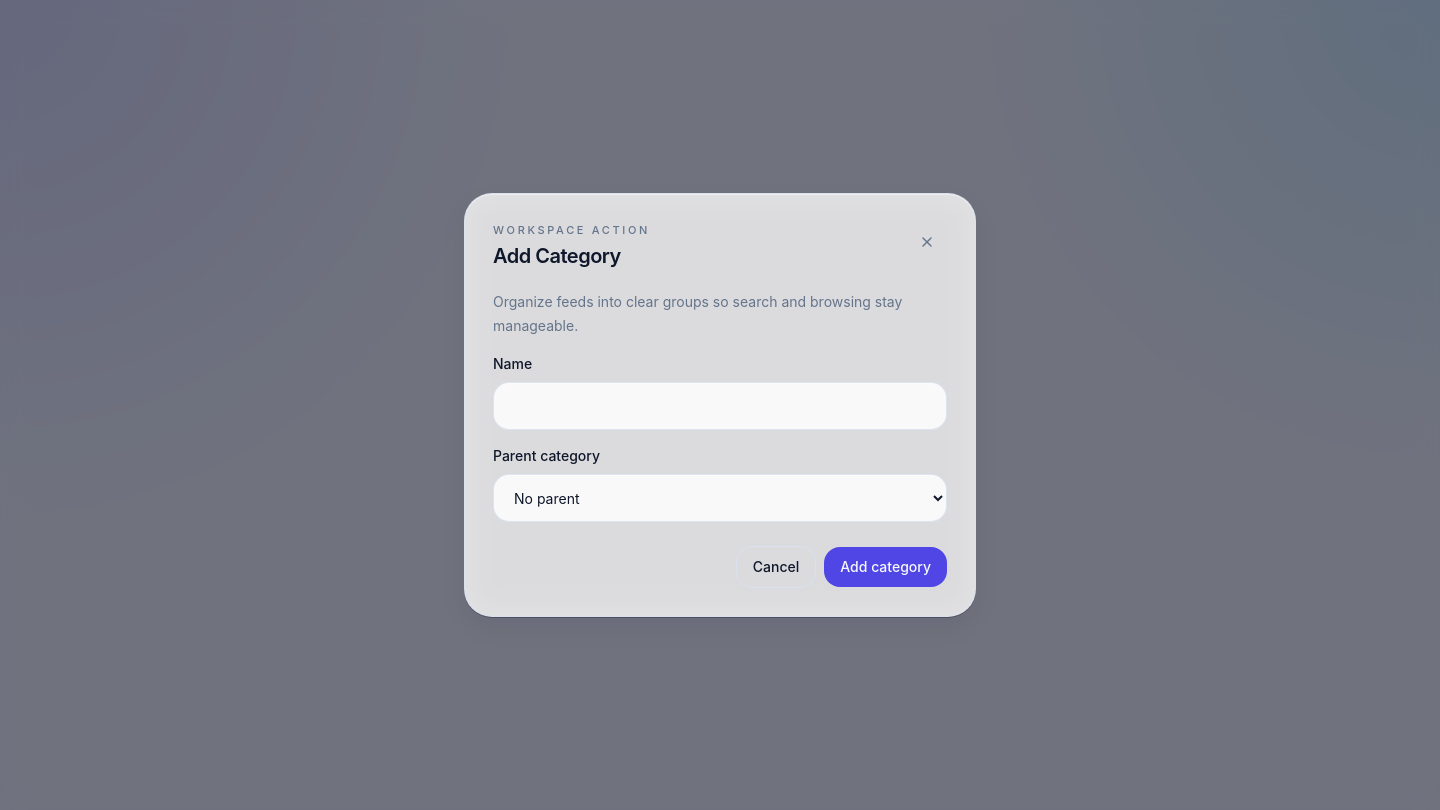
CategoryDialog - create mode › surfaces the server error message on failure
Type "Tech" into the field labelled "Name" at (720, 406), box x1=493 y1=382 x2=947 y2=430
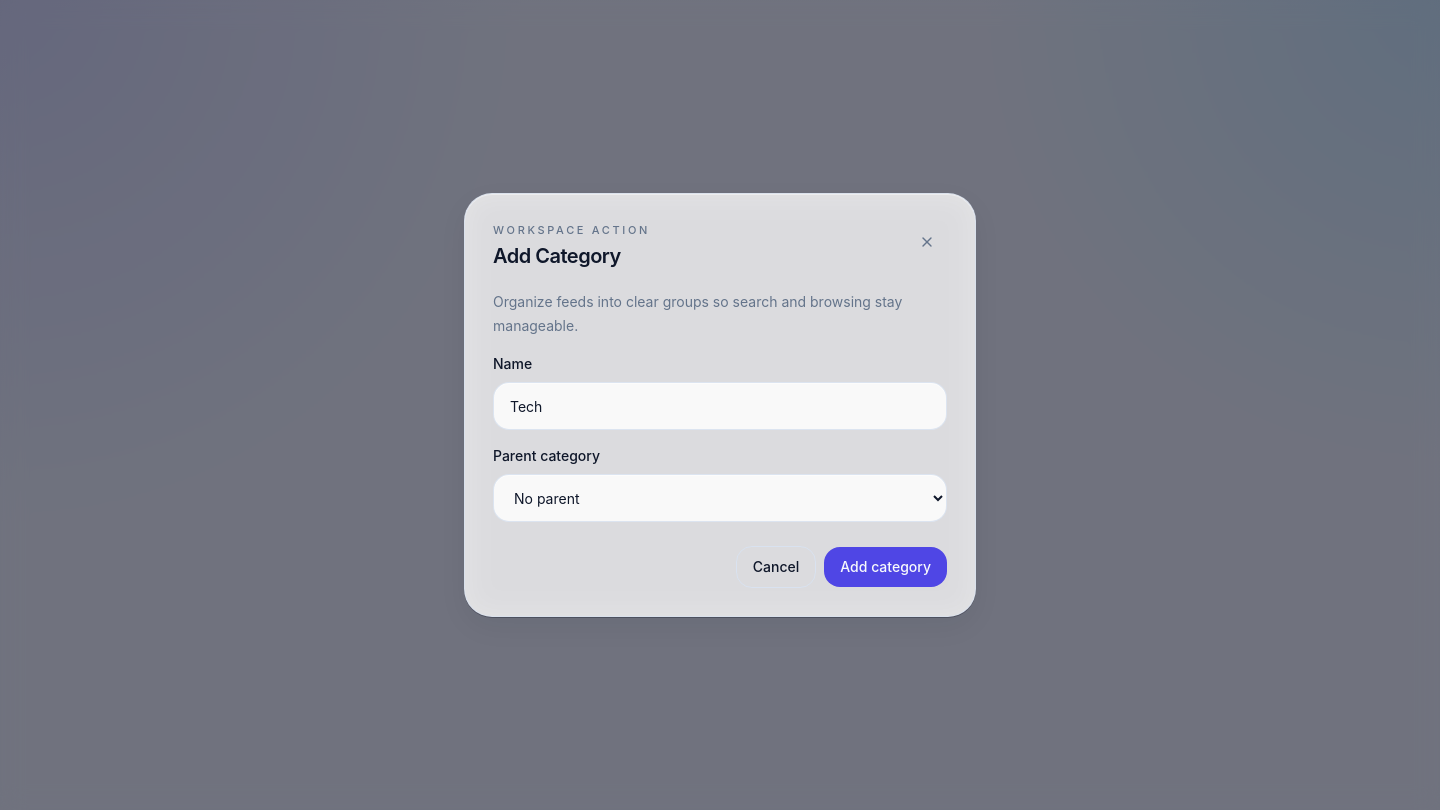
Click the button "Add category" at (886, 567), box x1=824 y1=547 x2=947 y2=587
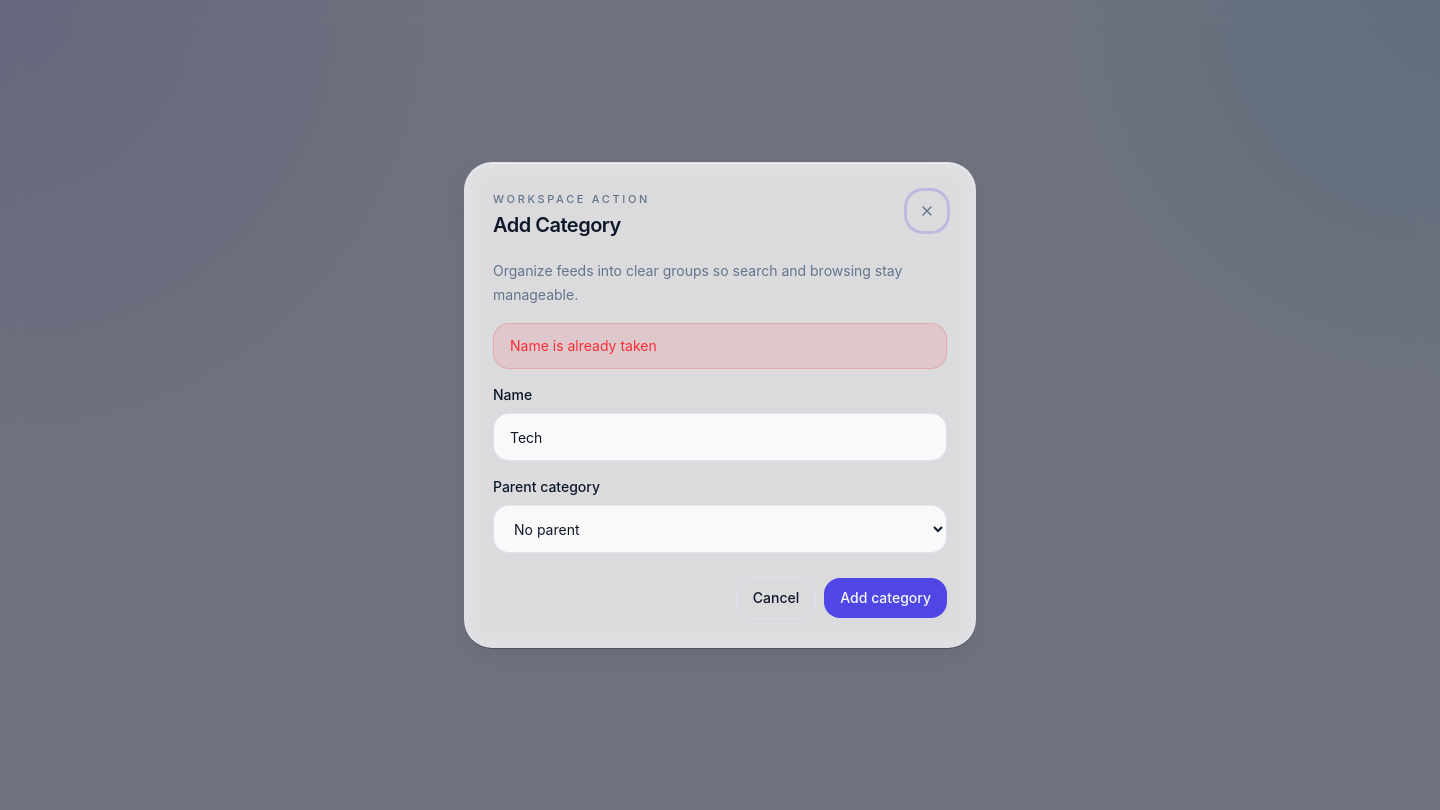
Result: the text "Name is already taken" is shown at x1=493 y1=323 x2=947 y2=369
